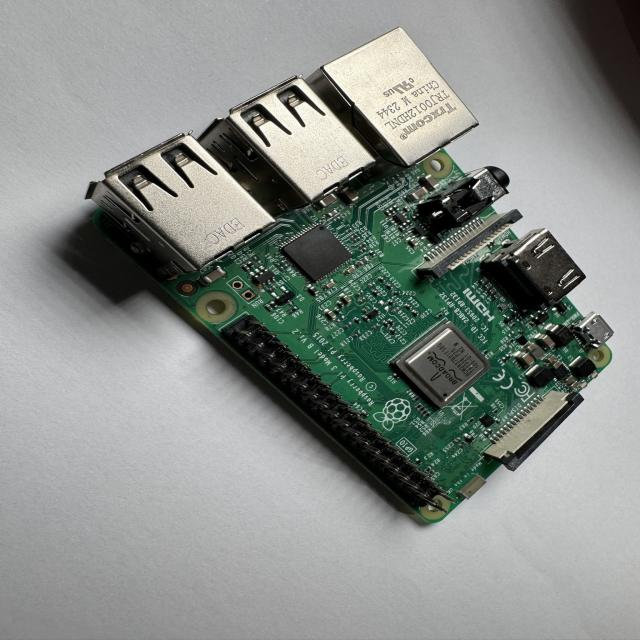CPU: (393, 320, 490, 411)
Ethernet: (308, 28, 479, 167)
GPIO: (219, 319, 454, 528)
HDMI: (504, 228, 586, 307)
RAM-3: (282, 226, 354, 285)
Raspberry: (85, 29, 614, 530)
